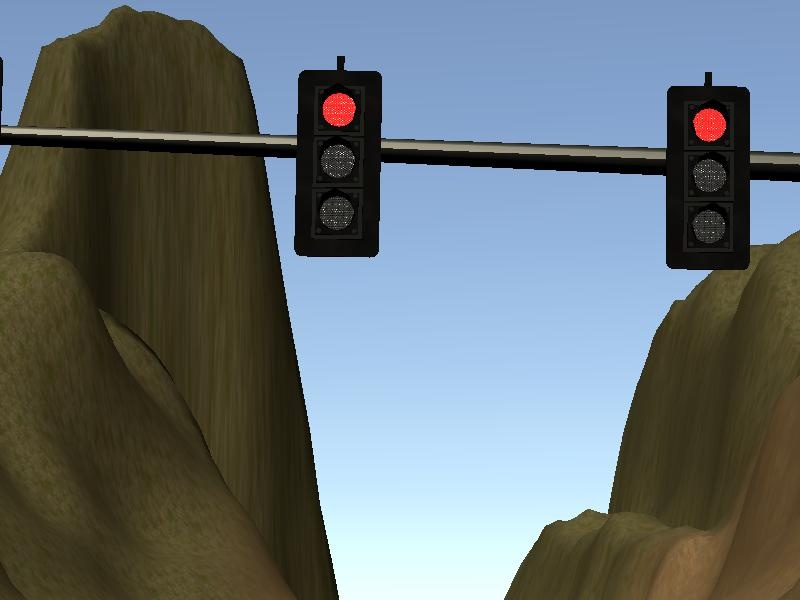RED: (294, 71, 381, 258), (662, 85, 749, 272)
